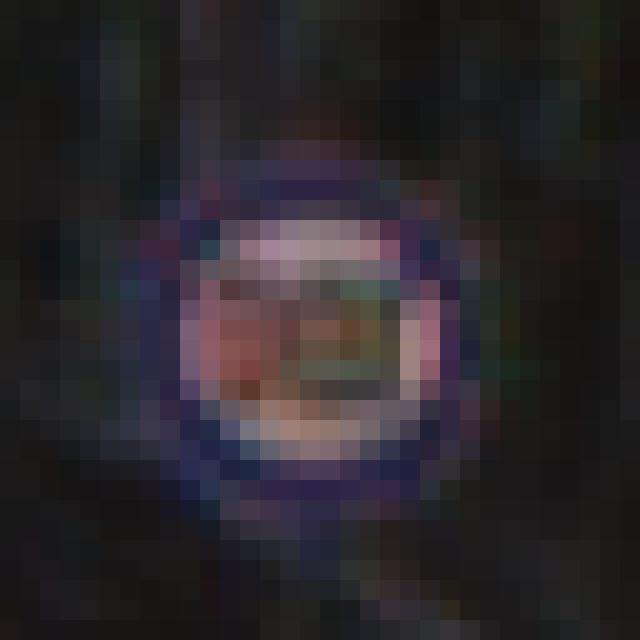SPEED LIMIT 100: (144, 176, 472, 514)
